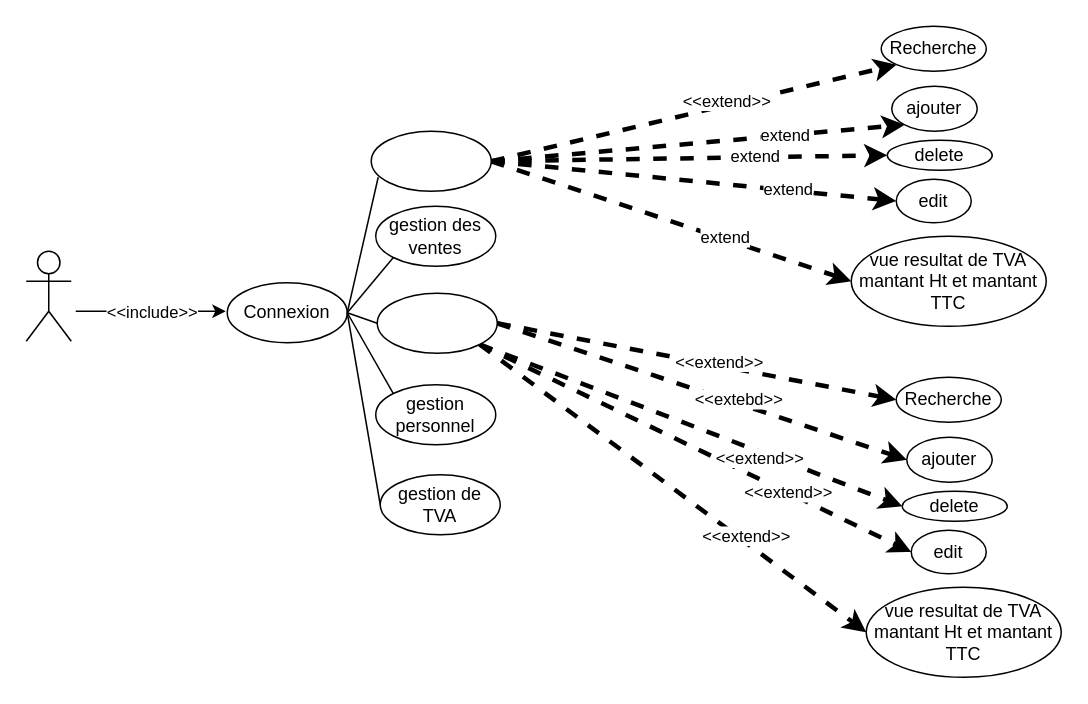
The diagram is 1088 pixels wide and 704 high, and some of its shapes have lost their labels. Here are the shapes that lost their labels. From the top down, the centre of each, then its label:
the point at 430,160: gestion des achats
the point at 48,295: user
the point at 436,322: gestion des bancaires
